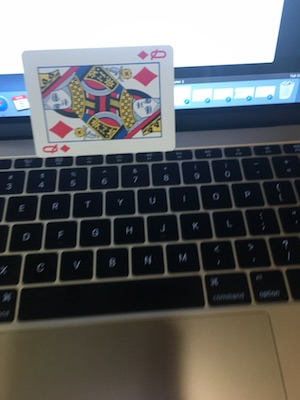QueenOfDiamonds: (17, 46, 183, 154)
